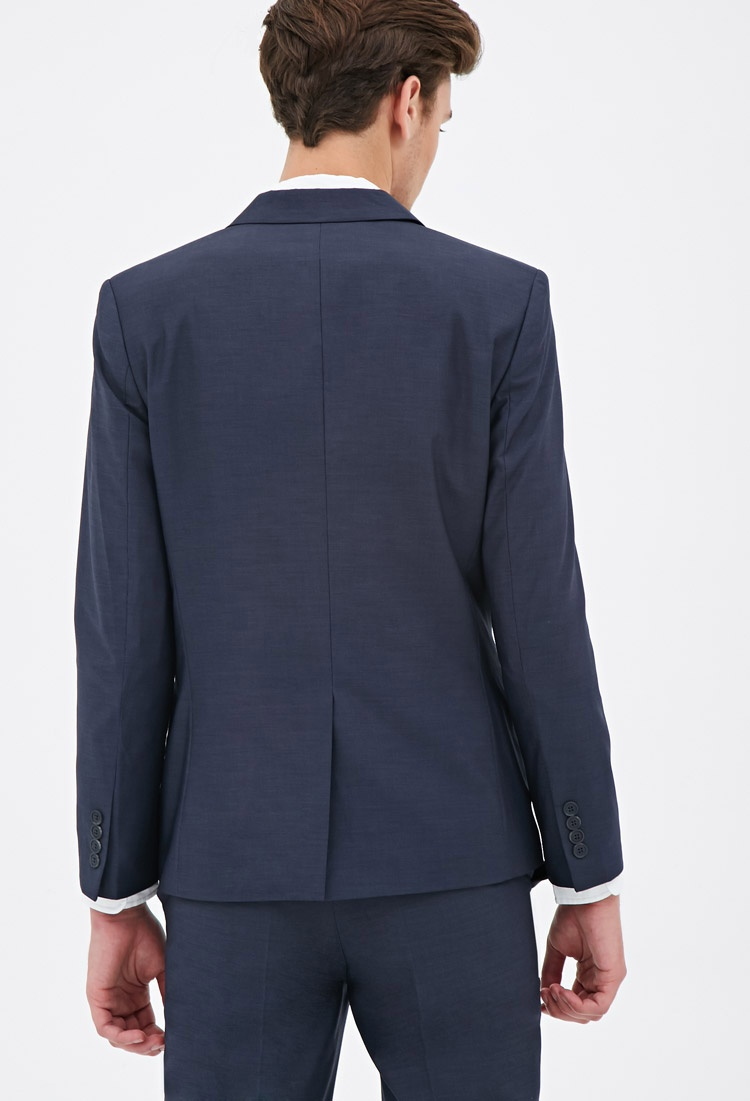F_M_suit jacket: (44, 189, 627, 890)
F_dress pants: (145, 862, 563, 1098)
